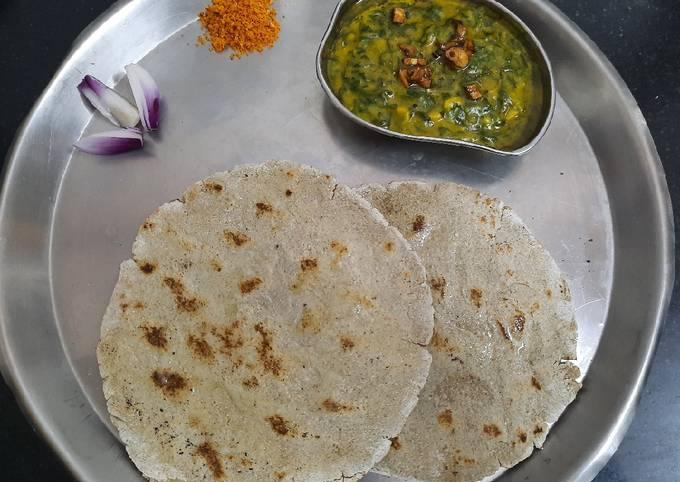bhakri: (102, 158, 419, 482), (338, 178, 584, 481)
salad: (78, 65, 152, 164)
